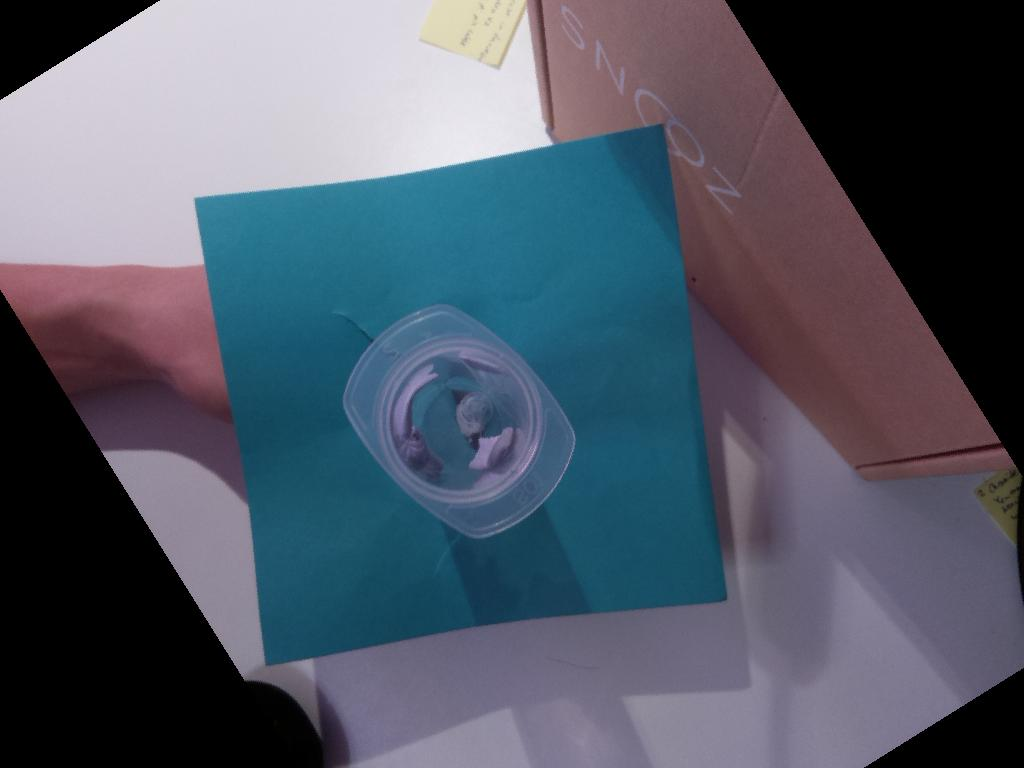dirty: (331, 297, 588, 547)
